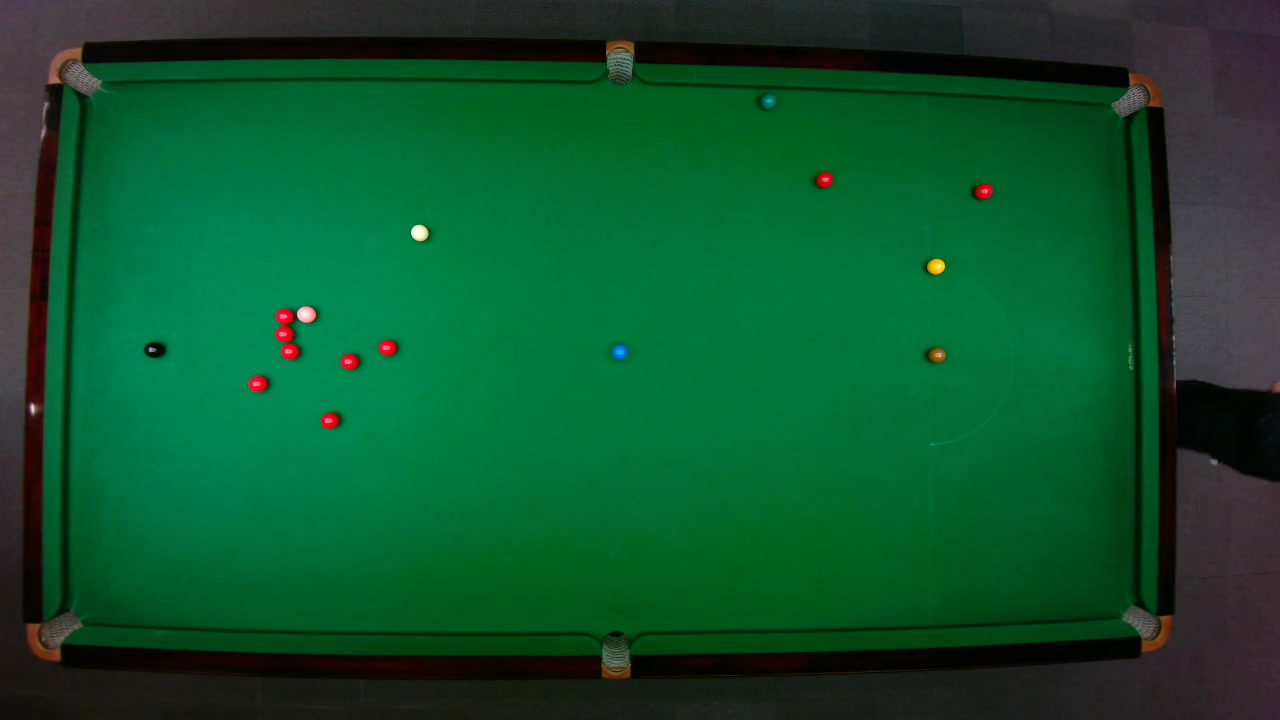bag: (25, 609, 83, 661), (45, 46, 101, 96), (1119, 603, 1171, 652), (1108, 71, 1161, 118), (600, 629, 629, 680), (605, 38, 633, 85)
black: (142, 340, 164, 358)
blue: (610, 342, 628, 360)
brown: (926, 346, 946, 362)
green: (759, 92, 776, 110)
pink: (294, 304, 317, 323)
red: (813, 169, 834, 189), (376, 337, 398, 356), (318, 410, 340, 429), (246, 374, 269, 392), (273, 306, 295, 324), (278, 342, 300, 360), (338, 351, 360, 369), (972, 182, 994, 199), (272, 325, 294, 342)
white: (409, 223, 429, 241)
yellow: (925, 257, 946, 274)
zone: (927, 265, 1014, 445)
